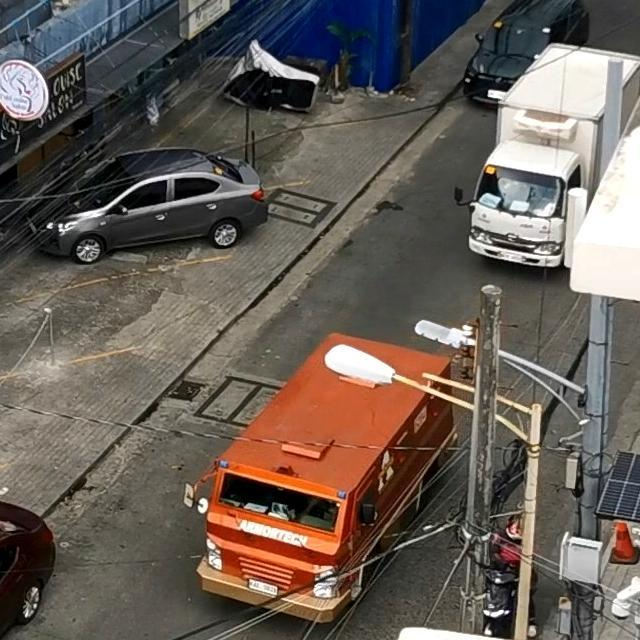Truck: (452, 24, 640, 295)
